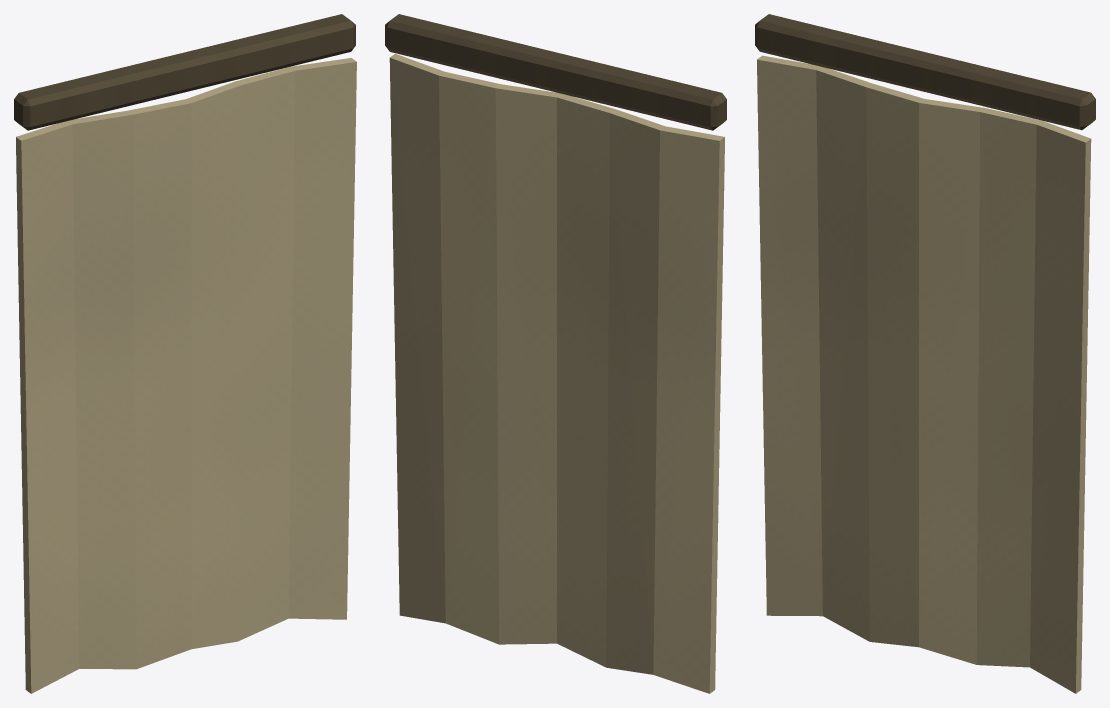
Rendered from WarrensC_PWC24_ClothBanner_Mars_SM.fbx.
The picture shows the model from 3 angles, left to right: view 1: azimuth 30°, elevation 25°; view 2: azimuth 150°, elevation 25°; view 3: azimuth 330°, elevation 25°; orthographic projection.
Visible parts, largest first — view 1: WarrensC_PWC24_ClothBanner_Mars_SM.001; view 2: WarrensC_PWC24_ClothBanner_Mars_SM.001; view 3: WarrensC_PWC24_ClothBanner_Mars_SM.001.
Boxes of the visible parts, x1,y1,x2,y2 form: WarrensC_PWC24_ClothBanner_Mars_SM.001: [14, 14, 356, 693]; WarrensC_PWC24_ClothBanner_Mars_SM.001: [385, 14, 726, 693]; WarrensC_PWC24_ClothBanner_Mars_SM.001: [755, 14, 1095, 693].
Bounding box in the file's own units: 70 × 5 × 120.
